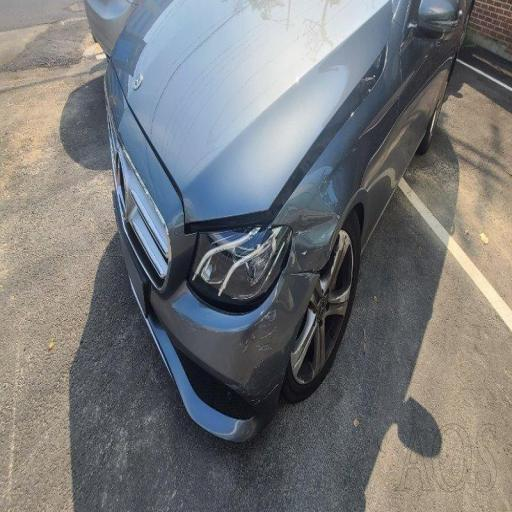dent: (150, 156, 330, 392)
